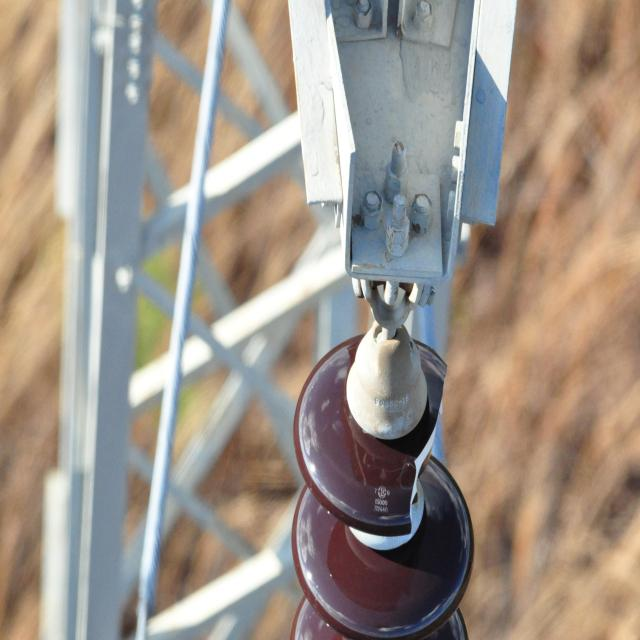broken: (405, 357, 448, 534)
insulator: (288, 336, 474, 640)
